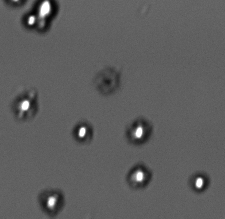Dead Cell: (95, 67, 121, 95)
Living Cell: (125, 161, 152, 189), (126, 116, 152, 145), (35, 1, 58, 33), (11, 90, 37, 118), (190, 168, 209, 193), (73, 121, 92, 142), (23, 11, 37, 27)
